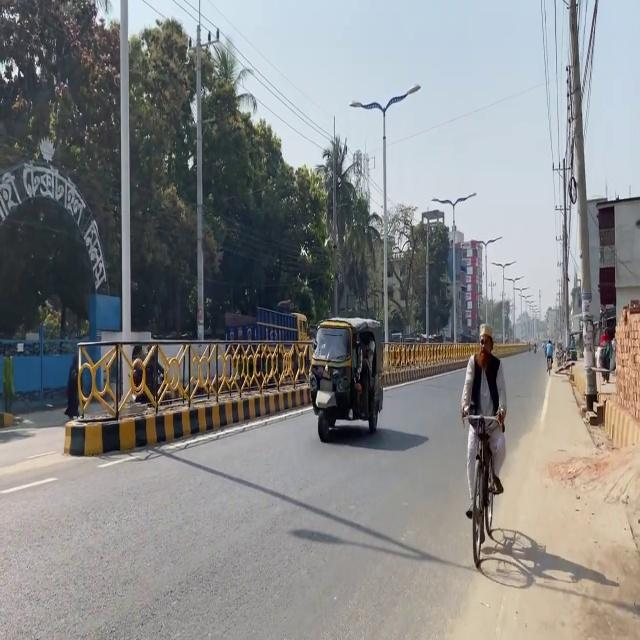Construction-barrier: (63, 380, 312, 456), (566, 360, 607, 448)
Garbage-bin: (460, 323, 507, 518), (543, 339, 554, 372)
Light-pole: (118, 1, 132, 404), (194, 2, 205, 341)
Pole: (62, 336, 535, 456)
Pothole: (469, 344, 639, 639)
Traffic-cone: (308, 316, 384, 442), (223, 305, 311, 382)
